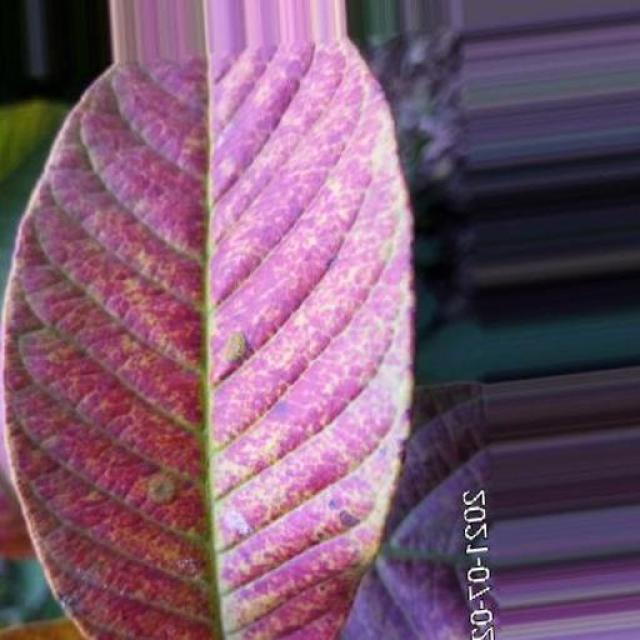Rust: (6, 41, 414, 640)
